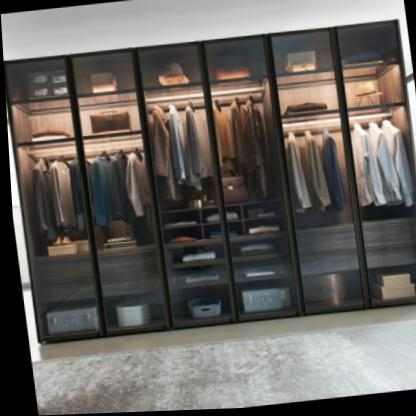Transparent Closet: (1, 19, 416, 350)
